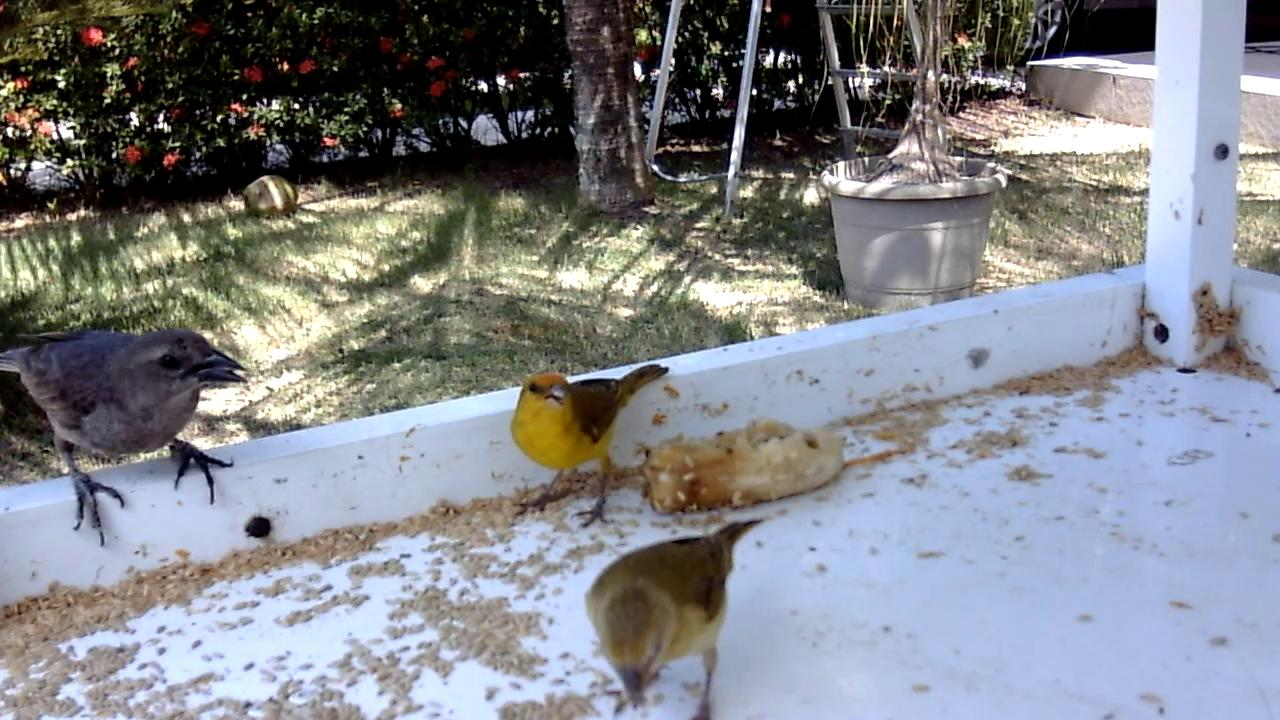canario_do_amazonas: (583, 515, 770, 720), (510, 361, 674, 533)
chupim: (1, 324, 253, 550)
